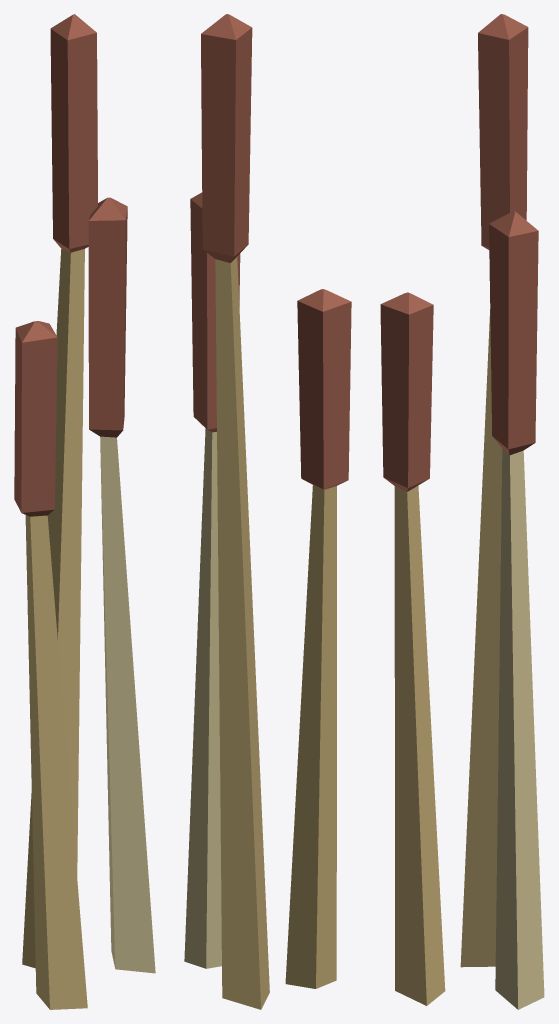
The model's file is EA03_Nature_SweetFlag_02c.glb.
The picture shows the model from 3 angles, left to right: view 1: azimuth 30°, elevation 25°; view 2: azimuth 150°, elevation 25°; view 3: azimuth 330°, elevation 25°; orthographic projection. The views are drawn at different scales.
Visible parts, largest first — view 1: EA03_Nature_SweetFlag_02c; view 2: EA03_Nature_SweetFlag_02c; view 3: EA03_Nature_SweetFlag_02c.
Part boxes in pixels (x1,y1,x2,y2): EA03_Nature_SweetFlag_02c: [14, 14, 155, 1009]; EA03_Nature_SweetFlag_02c: [184, 14, 351, 1009]; EA03_Nature_SweetFlag_02c: [380, 14, 544, 1009].
Size of the model in its own units: 0.4678 by 2.95 by 0.3185.
1 material, 1 textured.
